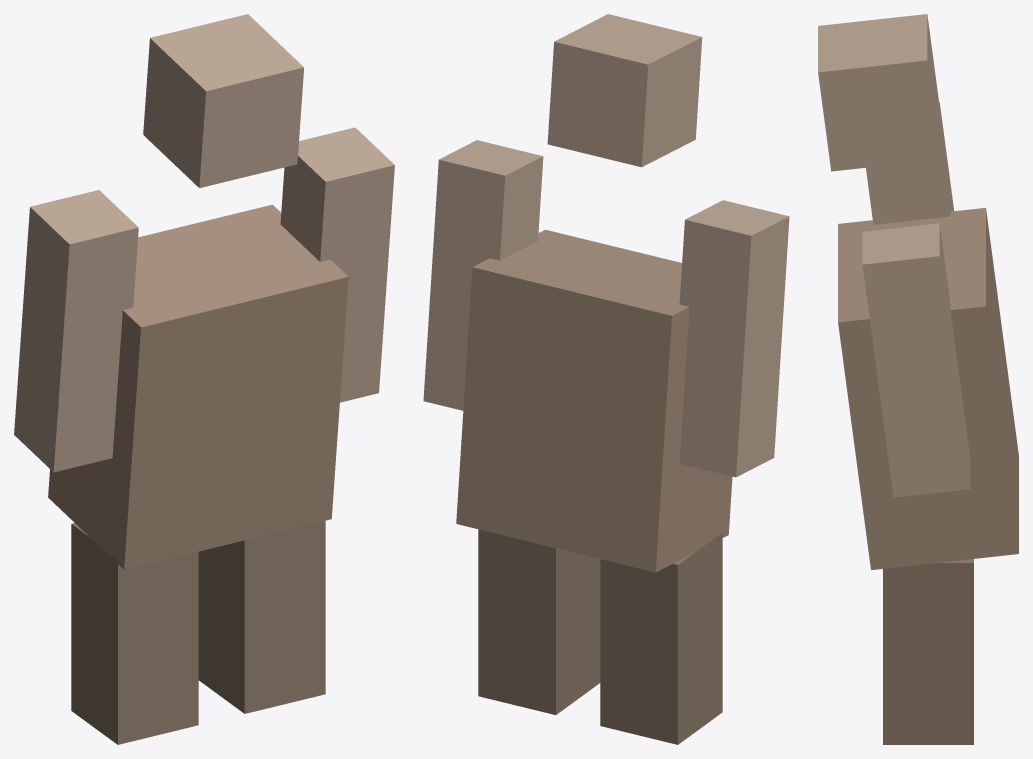
File: ogre.glb
3 renders of one model, left to right at view 1: azimuth 30°, elevation 25°; view 2: azimuth 150°, elevation 25°; view 3: azimuth 270°, elevation 25°, orthographic. The views are drawn at different scales.
Visible parts, largest first — view 1: Ogre_Torso, Ogre_LeftArmMesh, Ogre_LeftLegMesh, Ogre_Head, Ogre_RightLegMesh, Ogre_RightArmMesh; view 2: Ogre_Torso, Ogre_LeftArmMesh, Ogre_LeftLegMesh, Ogre_RightLegMesh, Ogre_Head, Ogre_RightArmMesh; view 3: Ogre_Torso, Ogre_RightArmMesh, Ogre_Head, Ogre_RightLegMesh, Ogre_LeftArmMesh.
Boxes of the visible parts, x1,y1,x2,y2 form: Ogre_Torso: (48, 204, 348, 569); Ogre_LeftArmMesh: (14, 190, 138, 472); Ogre_LeftLegMesh: (71, 523, 198, 744); Ogre_Head: (143, 14, 304, 188); Ogre_RightLegMesh: (198, 520, 325, 713); Ogre_RightArmMesh: (280, 127, 394, 402); Ogre_Torso: (456, 229, 732, 572); Ogre_LeftArmMesh: (679, 200, 789, 477); Ogre_LeftLegMesh: (600, 533, 722, 744); Ogre_RightLegMesh: (478, 529, 600, 714); Ogre_Head: (547, 14, 702, 167); Ogre_RightArmMesh: (423, 140, 543, 410); Ogre_Torso: (838, 207, 1018, 569); Ogre_RightArmMesh: (862, 223, 970, 497); Ogre_Head: (818, 14, 940, 171); Ogre_RightLegMesh: (883, 559, 973, 744); Ogre_LeftArmMesh: (866, 102, 954, 224).
Bounding box in the file's own units: 1.13 × 2.24 × 0.6202.
